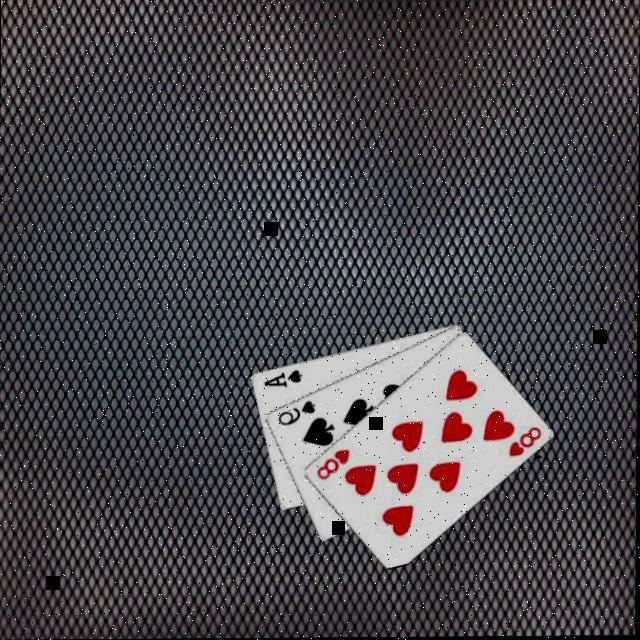8H: (312, 446, 351, 482), (503, 424, 542, 459)
9S: (272, 398, 316, 428)
AS: (259, 366, 303, 390)
